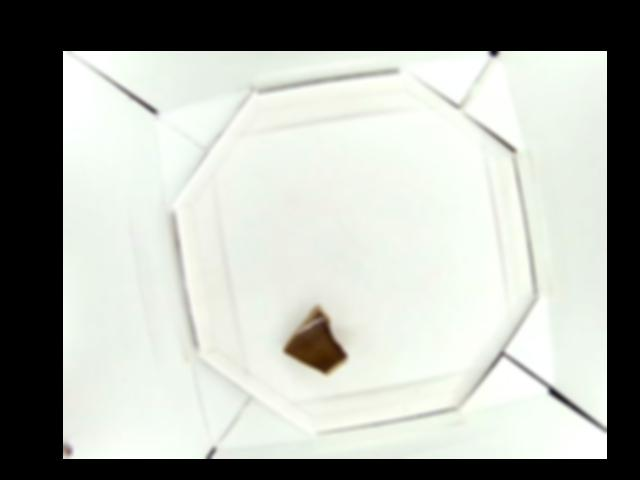China: (281, 304, 350, 379)
